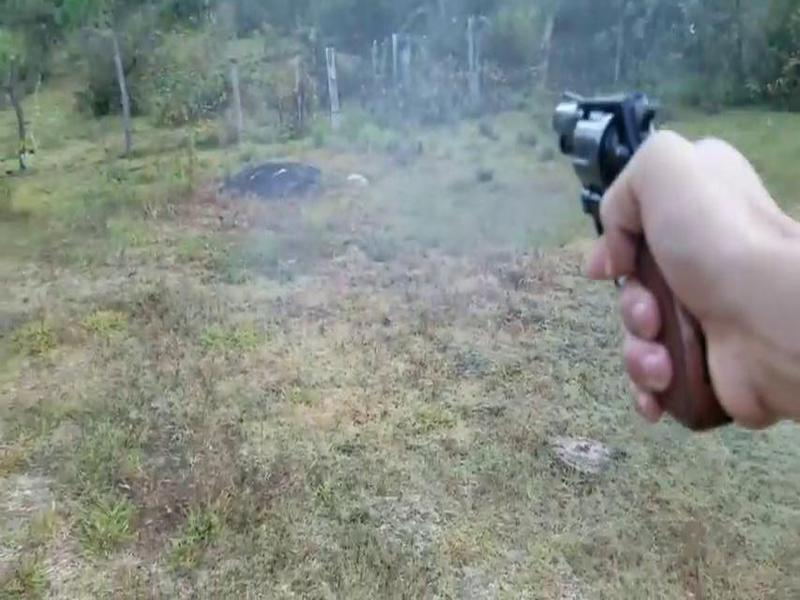Revolver: (539, 63, 750, 417)
